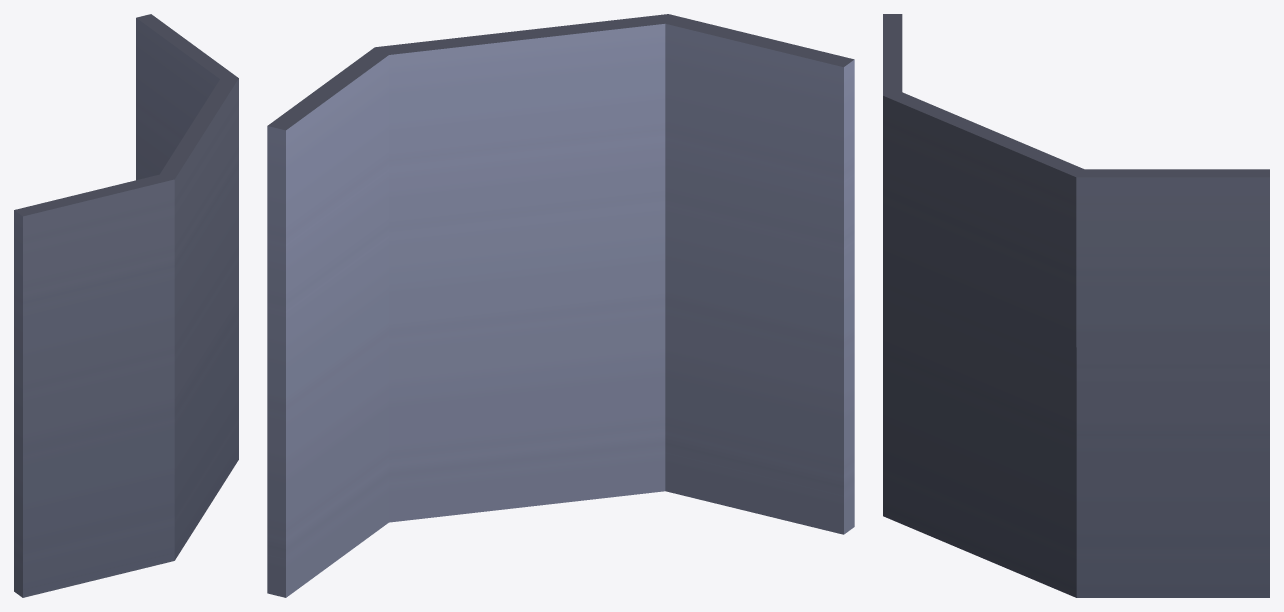
File: WallCornerDiagonal.glb
The picture shows the model from 3 angles, left to right: view 1: azimuth 30°, elevation 25°; view 2: azimuth 150°, elevation 25°; view 3: azimuth 270°, elevation 25°; orthographic projection. The views are drawn at different scales.
Parts seen in each view (by area): view 1: wall-corner-diagonal; view 2: wall-corner-diagonal; view 3: wall-corner-diagonal.
Part boxes in pixels (x1,y1,x2,y2): wall-corner-diagonal: (14,14,238,597); wall-corner-diagonal: (267,14,854,597); wall-corner-diagonal: (883,14,1269,597).
Size of the model in its own units: 2 by 2.4 by 2.
1 material, 1 textured.
